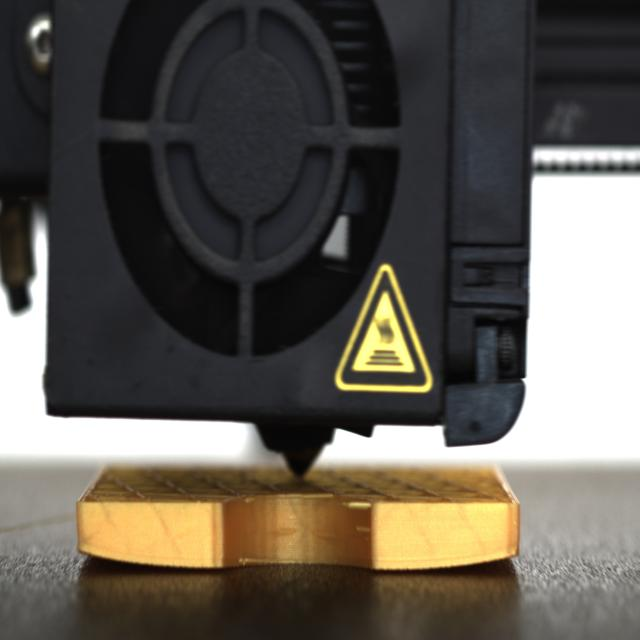Warping: (72, 540, 141, 574), (455, 543, 521, 577)
